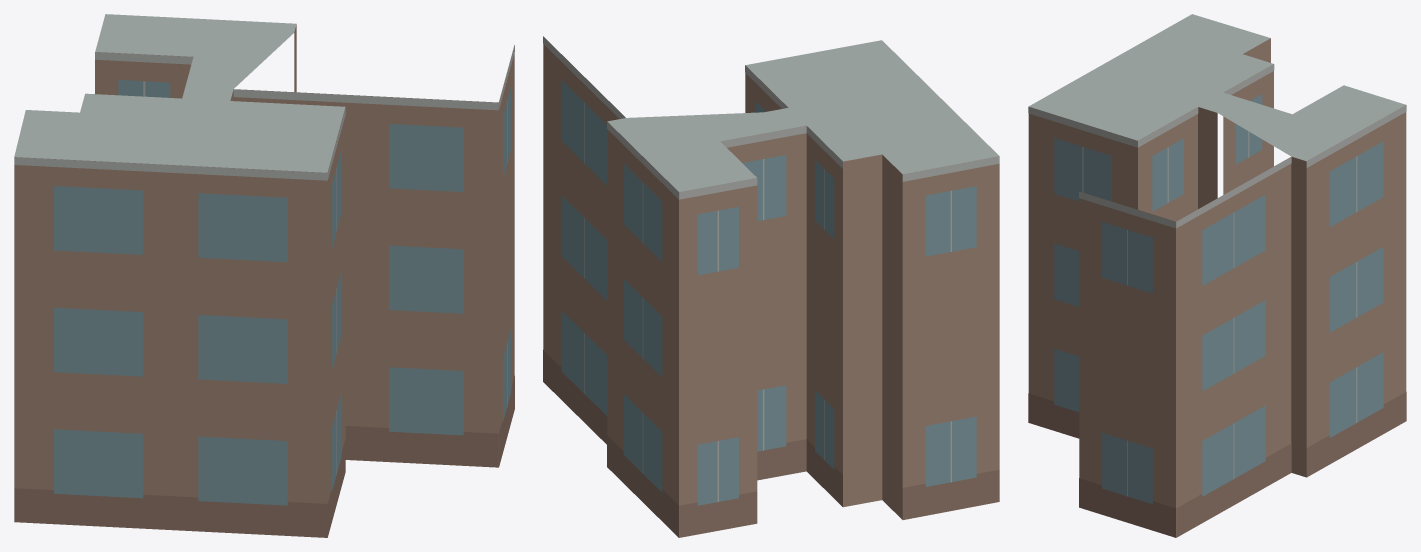
Rendered from survey-upis-32470341.glb.
3 views of the same model, side by side, from view 1: azimuth 30°, elevation 25°; view 2: azimuth 150°, elevation 25°; view 3: azimuth 270°, elevation 25° (orthographic). The views are drawn at different scales.
Parts seen in each view (by area): view 1: survey-upis-32470341.tmp; view 2: survey-upis-32470341.tmp; view 3: survey-upis-32470341.tmp.
Part boxes in pixels (<box>): survey-upis-32470341.tmp: <box>14,14,514,537</box>; survey-upis-32470341.tmp: <box>543,36,999,537</box>; survey-upis-32470341.tmp: <box>1028,14,1406,537</box>.
Bounding box in the file's own units: 15.85 × 11.25 × 12.2.
